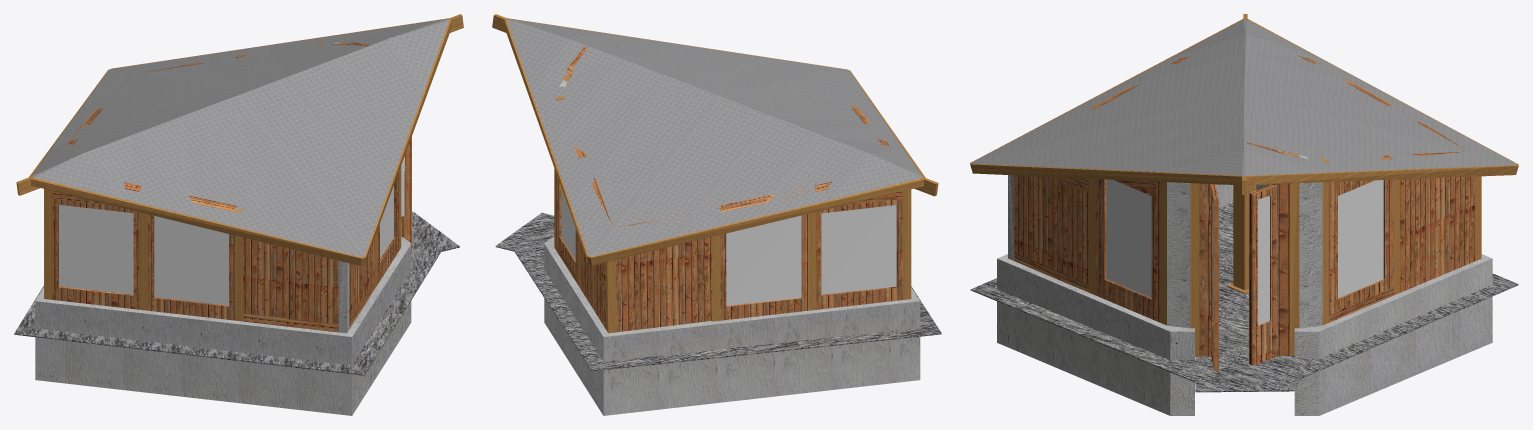
The model's file is SkillBoxPraticeBlender(4.2)авайрийный(с материалом).fbx.
3 renders of one model, left to right at view 1: azimuth 30°, elevation 25°; view 2: azimuth 150°, elevation 25°; view 3: azimuth 270°, elevation 25°, orthographic. The views are drawn at different scales.
Parts seen in each view (by area): view 1: МеталлКрыша, Фундамент, Стены, Окна(стекло), внешняя окантовка, Крыша, Стойки; view 2: МеталлКрыша, Фундамент, Стены, Окна(стекло), внешняя окантовка, Крыша, Стойки; view 3: МеталлКрыша, Фундамент, Стены, внешняя окантовка, Окна(стекло), Стойки, Крыша.
Boxes of the visible parts, bbox=[...] form: МеталлКрыша: bbox=[32, 19, 449, 257]; Фундамент: bbox=[35, 42, 411, 415]; Стены: bbox=[52, 42, 411, 332]; Окна(стекло): bbox=[59, 155, 404, 305]; внешняя окантовка: bbox=[14, 211, 459, 375]; Крыша: bbox=[16, 14, 463, 266]; Стойки: bbox=[44, 42, 401, 321]; МеталлКрыша: bbox=[507, 19, 922, 256]; Фундамент: bbox=[544, 80, 920, 415]; Стены: bbox=[556, 46, 902, 332]; Окна(стекло): bbox=[561, 188, 896, 305]; внешняя окантовка: bbox=[495, 213, 941, 371]; Крыша: bbox=[492, 14, 938, 265]; Стойки: bbox=[554, 75, 911, 333]; МеталлКрыша: bbox=[972, 20, 1516, 175]; Фундамент: bbox=[997, 155, 1492, 415]; Стены: bbox=[1014, 55, 1474, 370]; внешняя окантовка: bbox=[970, 202, 1518, 392]; Окна(стекло): bbox=[1106, 179, 1383, 325]; Стойки: bbox=[1089, 105, 1481, 356]; Крыша: bbox=[970, 14, 1518, 194].
Size of the model in its own units: 893 by 497 by 885.
